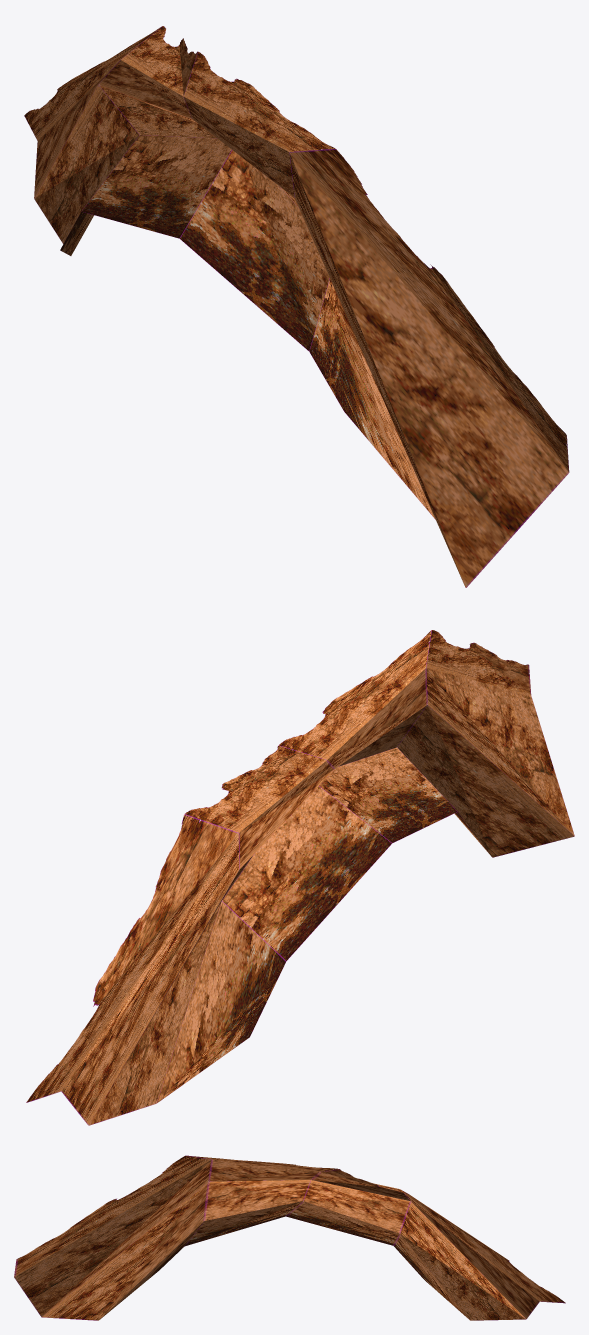
Rendered from _TR1MNT.obj.
The picture shows the model from 3 angles, top to bottom: view 1: azimuth 30°, elevation 25°; view 2: azimuth 150°, elevation 25°; view 3: azimuth 270°, elevation 25°; orthographic projection. The views are drawn at different scales.
Size of the model in its own units: 353 by 878 by 2651.
Materials: 1 (1 with a texture image).
